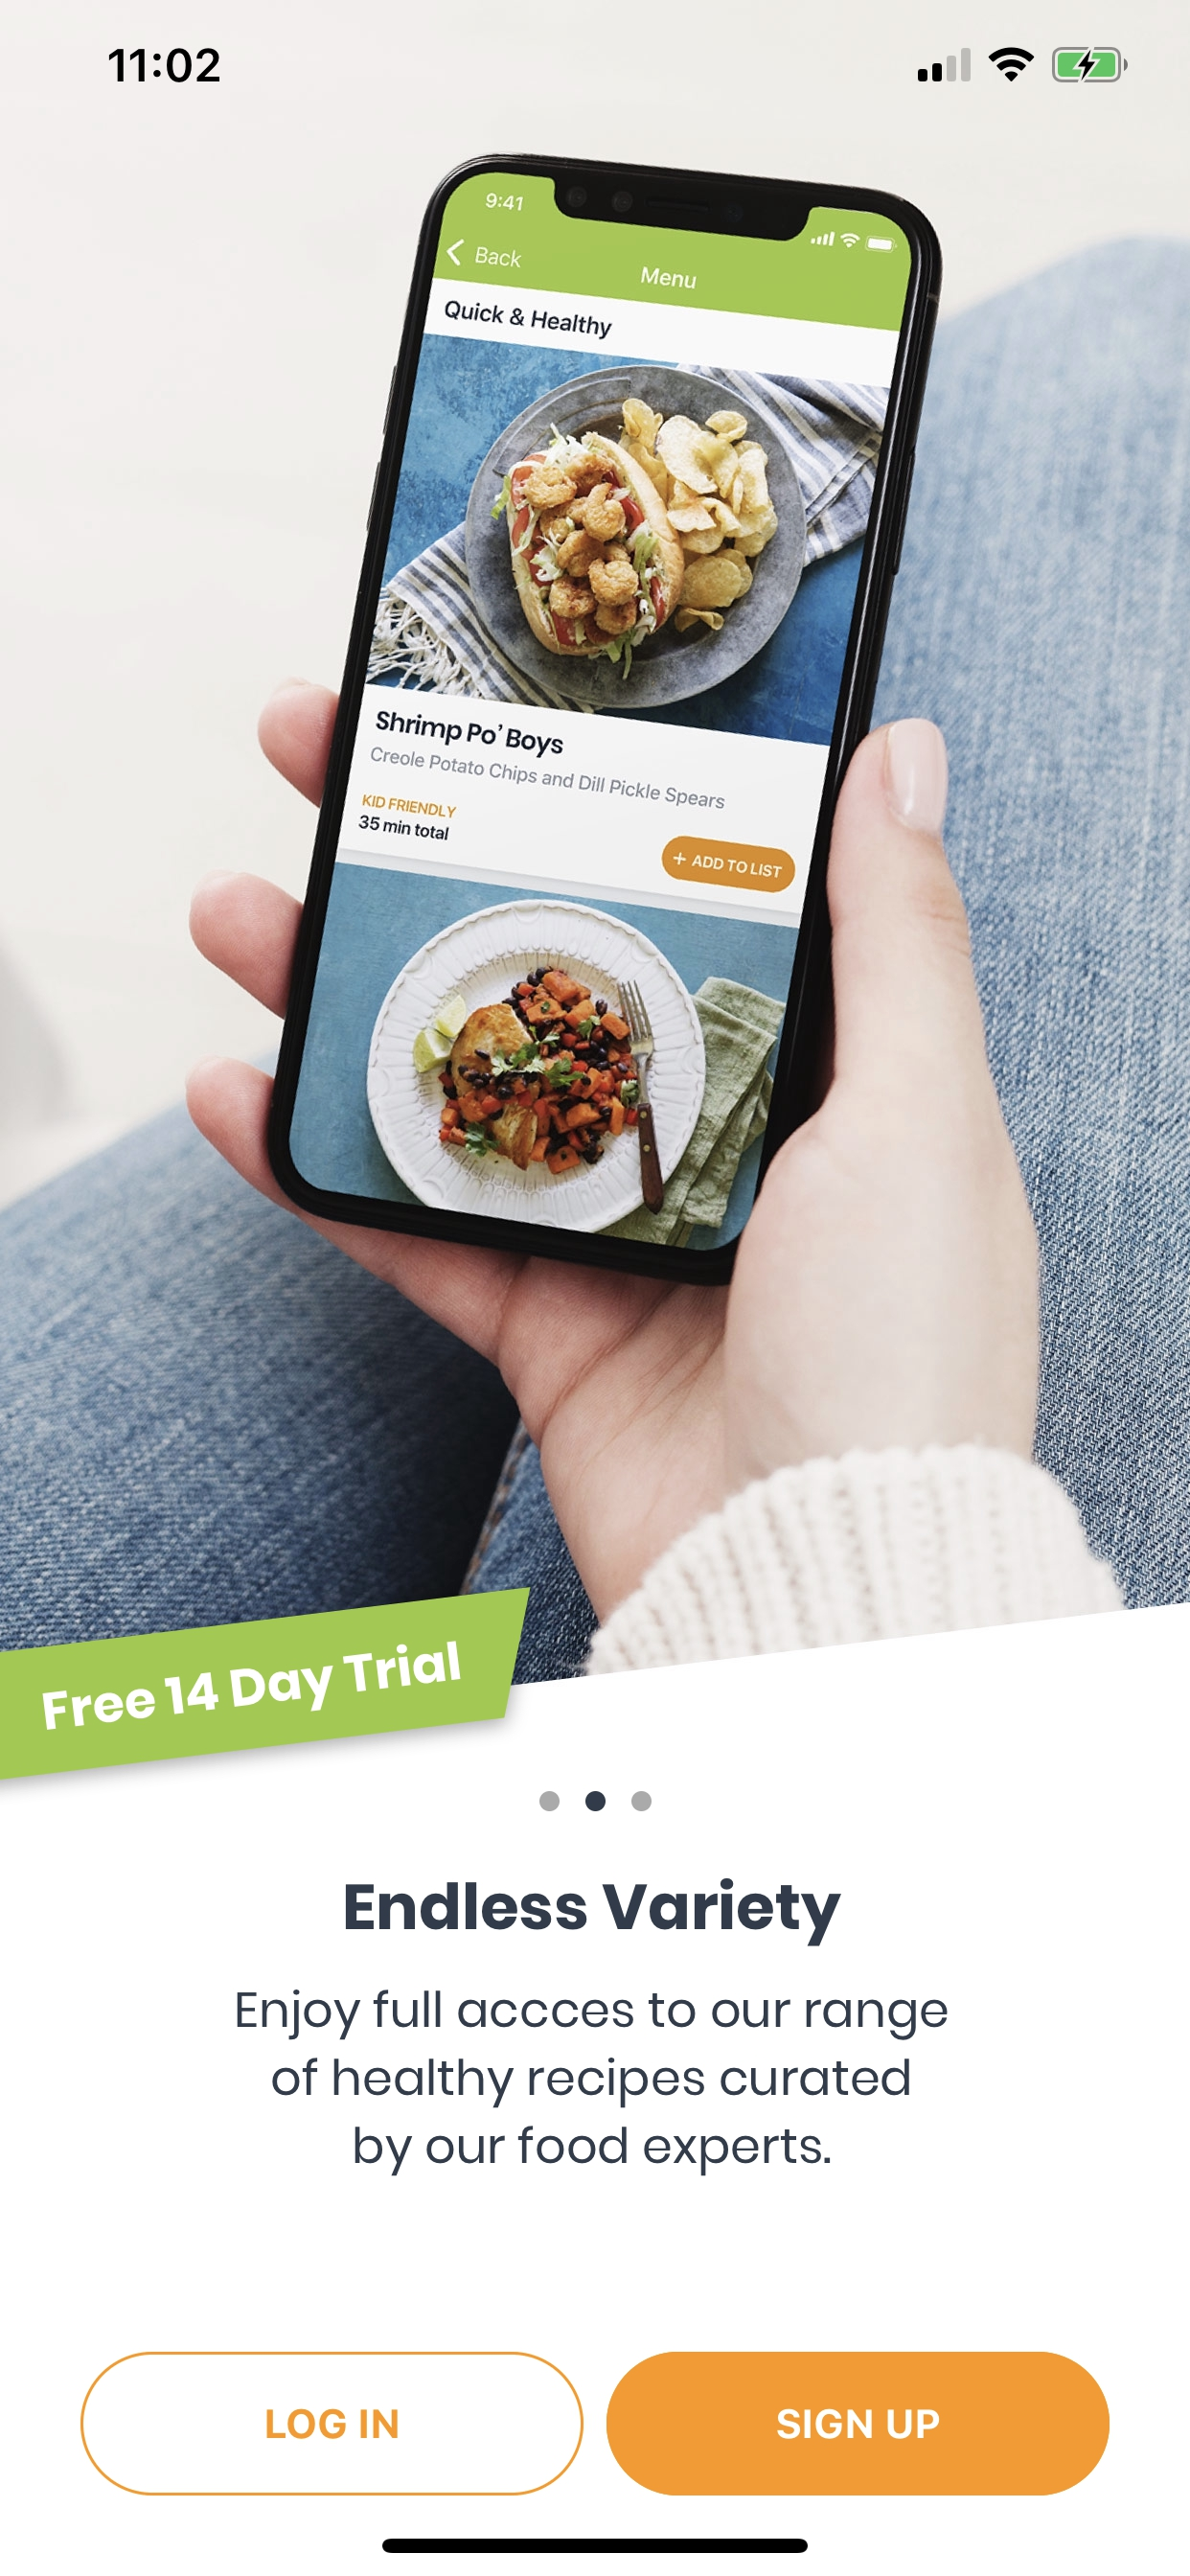Image: (2, 149, 1188, 1782)
PageIndicator: (539, 1791, 651, 1810)
Text: (237, 1989, 948, 2177), (345, 1878, 842, 1947)
TextButton: (605, 2351, 1109, 2495), (81, 2351, 585, 2495)
UpperTaskBar: (108, 48, 1128, 84)
